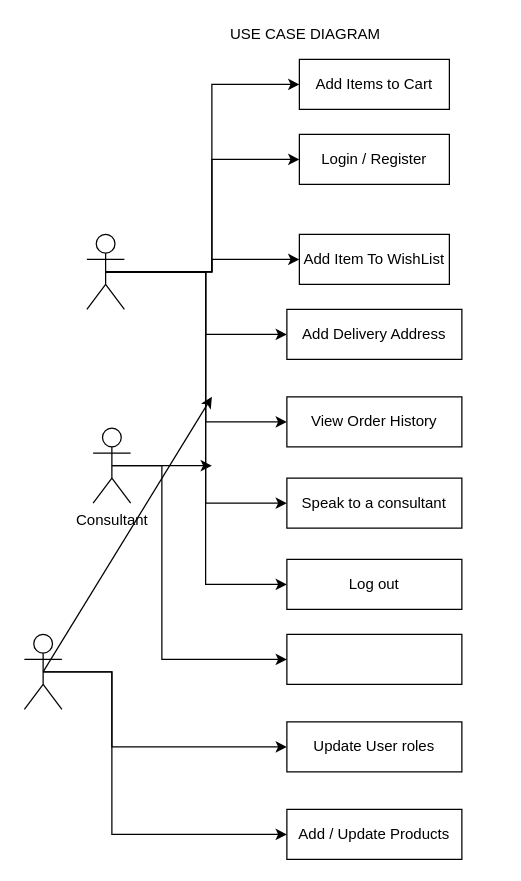
This 521x881 diagram has some shape labels left out. Each missing label, with the box of its shape:
Admin: (23, 633, 62, 709)
Normal User: (86, 233, 124, 309)
Offer Consulting service: (286, 633, 462, 684)
